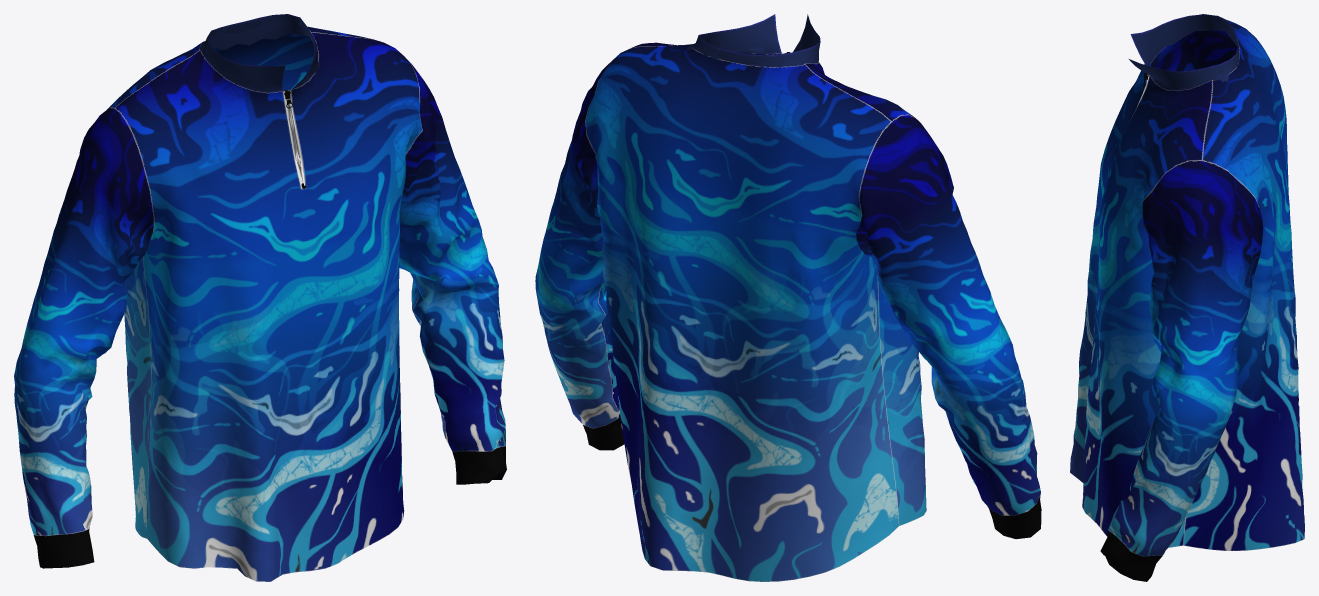
3 renders of one model, left to right at view 1: azimuth 30°, elevation 25°; view 2: azimuth 150°, elevation 25°; view 3: azimuth 270°, elevation 25°, orthographic. The views are drawn at different scales.
Visible parts, largest first — view 1: test; view 2: test; view 3: test.
Boxes of the visible parts, <box> form: test: <box>14,14,506,581</box>; test: <box>535,14,1041,581</box>; test: <box>1070,14,1304,581</box>.
Bounding box in the file's own units: 693 × 701 × 310.
